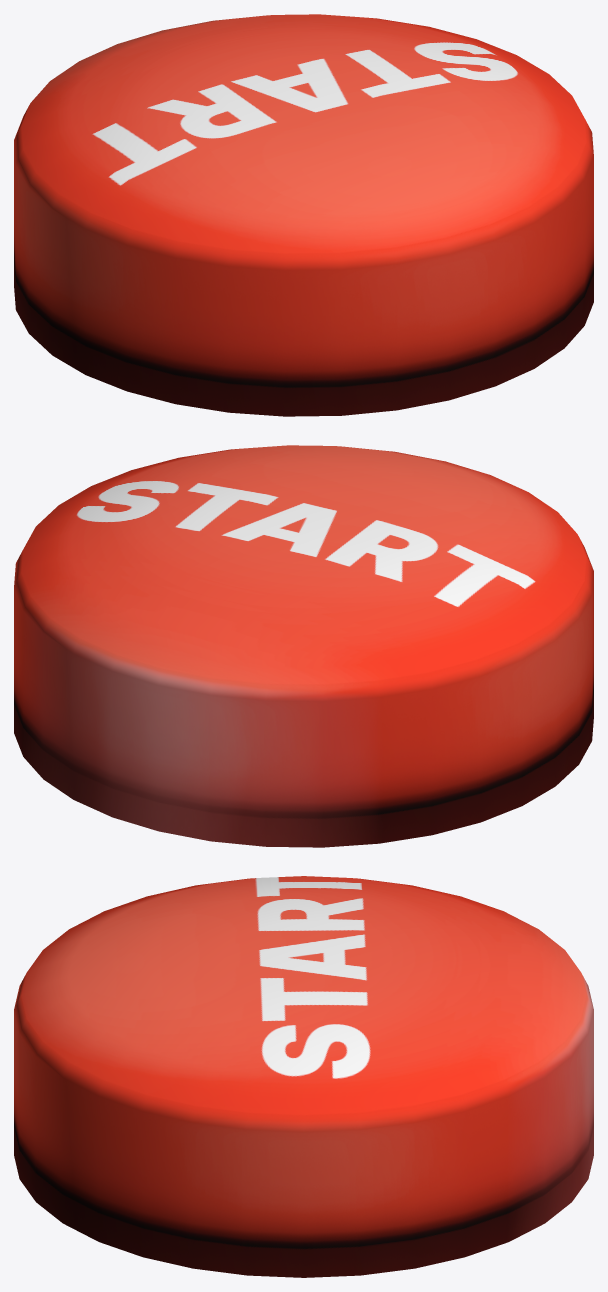
Rendered from KushiExpress_StartButtonB.fbx.
3 renders of one model, top to bottom at view 1: azimuth 30°, elevation 25°; view 2: azimuth 150°, elevation 25°; view 3: azimuth 270°, elevation 25°, orthographic.
Visible parts, largest first — view 1: KushiExpress_StartButtonB; view 2: KushiExpress_StartButtonB; view 3: KushiExpress_StartButtonB.
Part boxes in pixels (<box>): KushiExpress_StartButtonB: <box>14,14,593,416</box>; KushiExpress_StartButtonB: <box>14,445,593,847</box>; KushiExpress_StartButtonB: <box>14,876,593,1277</box>.
Bounding box in the file's own units: 8.41 × 3.2 × 8.41.
